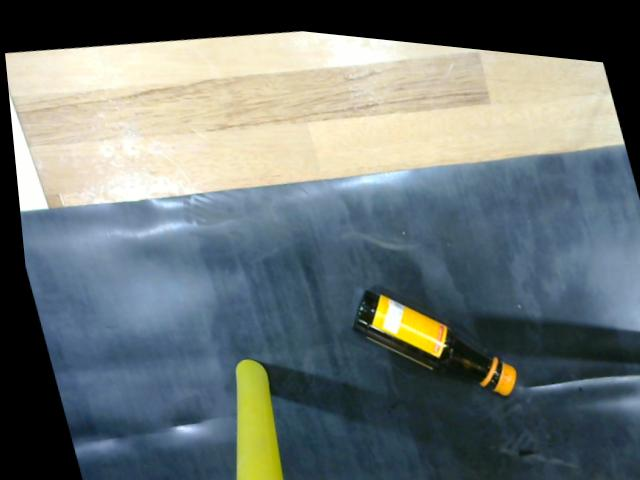glass: (336, 278, 520, 393)
